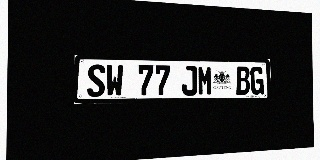7: (137, 65, 154, 96), (154, 65, 170, 96)
B: (236, 66, 250, 95)
G: (250, 67, 264, 95)
J: (182, 66, 197, 96)
M: (198, 66, 213, 95)
S: (87, 64, 105, 97)
W: (106, 64, 123, 97)
